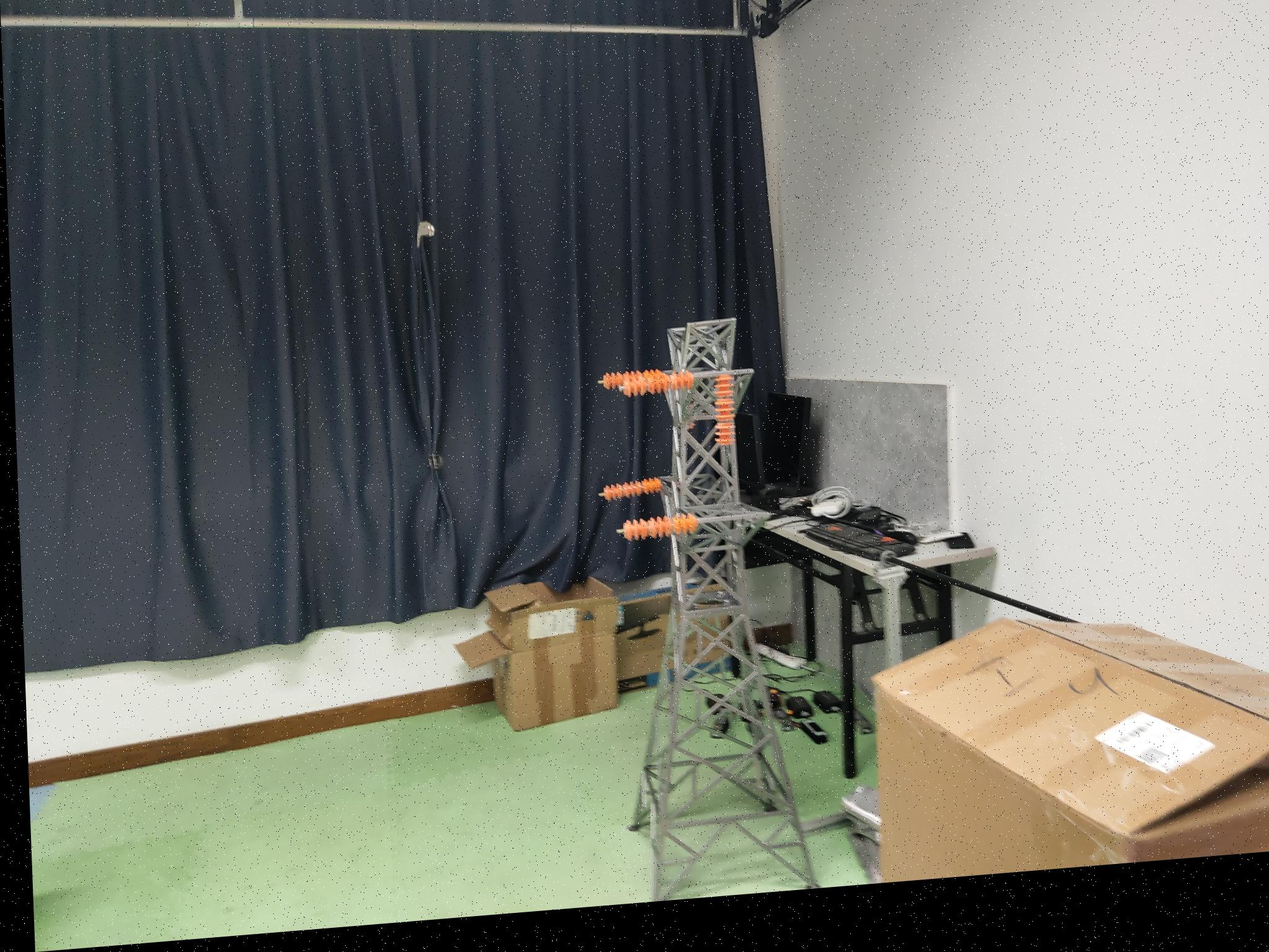tower: (610, 313, 821, 903)
